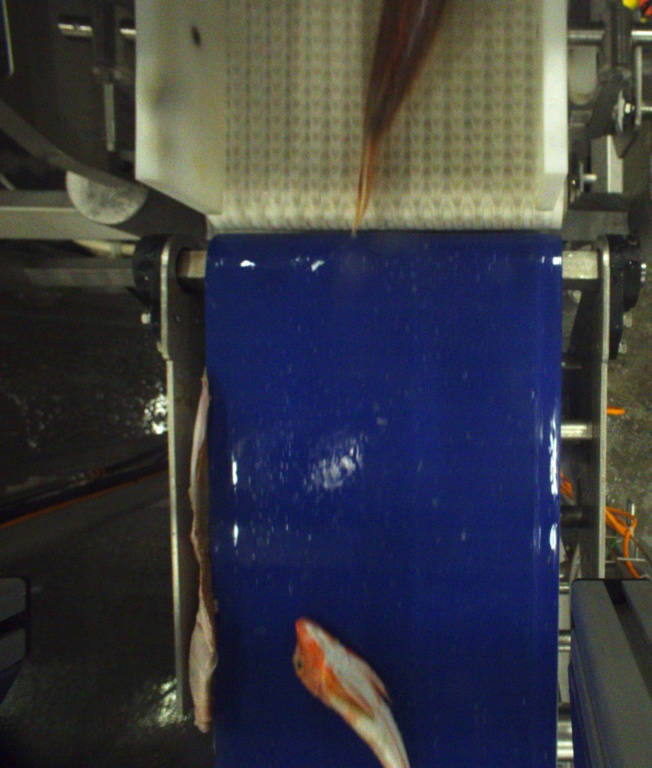GUU: (356, 0, 443, 235)
